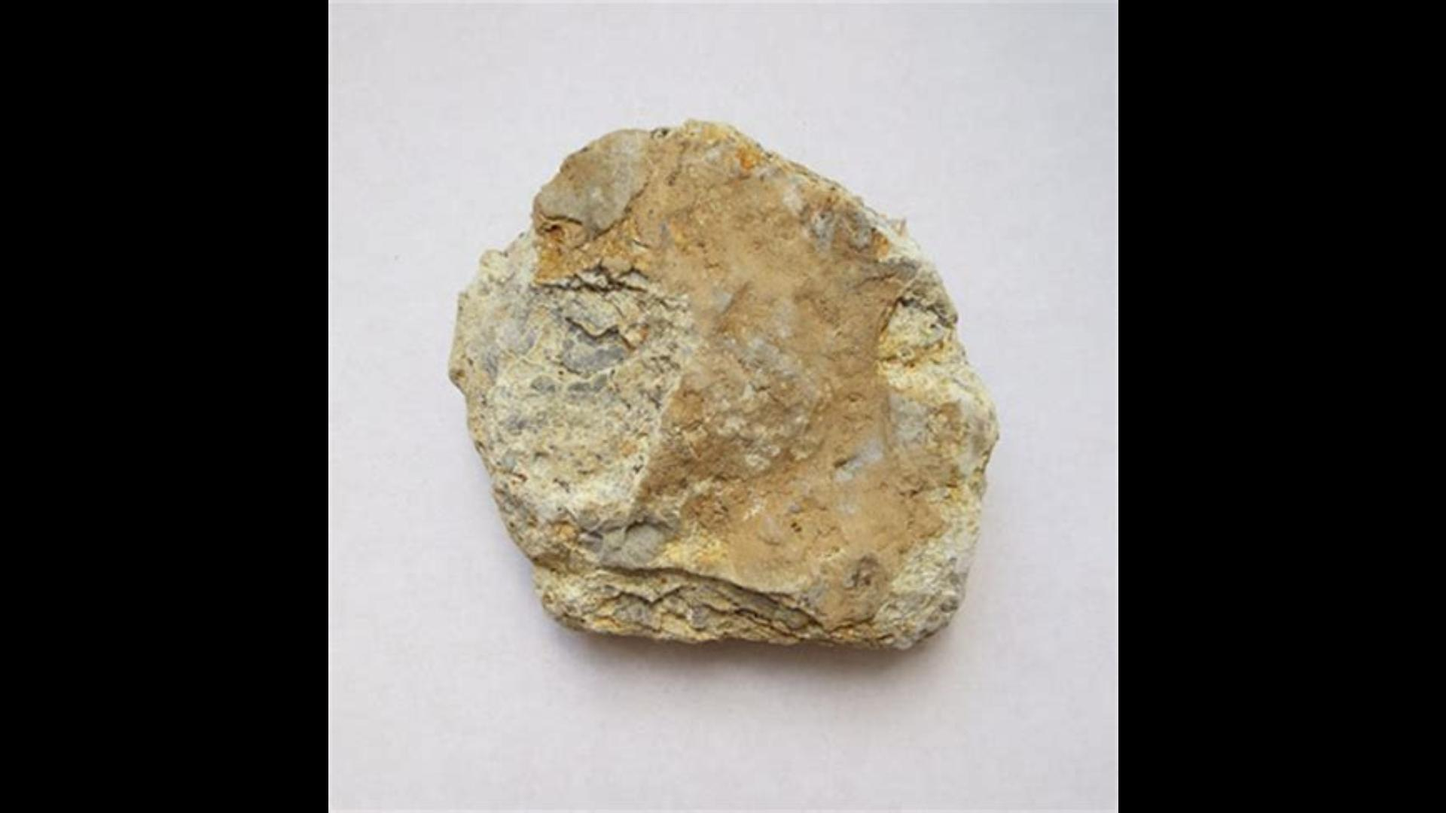rock: (449, 125, 994, 646)
